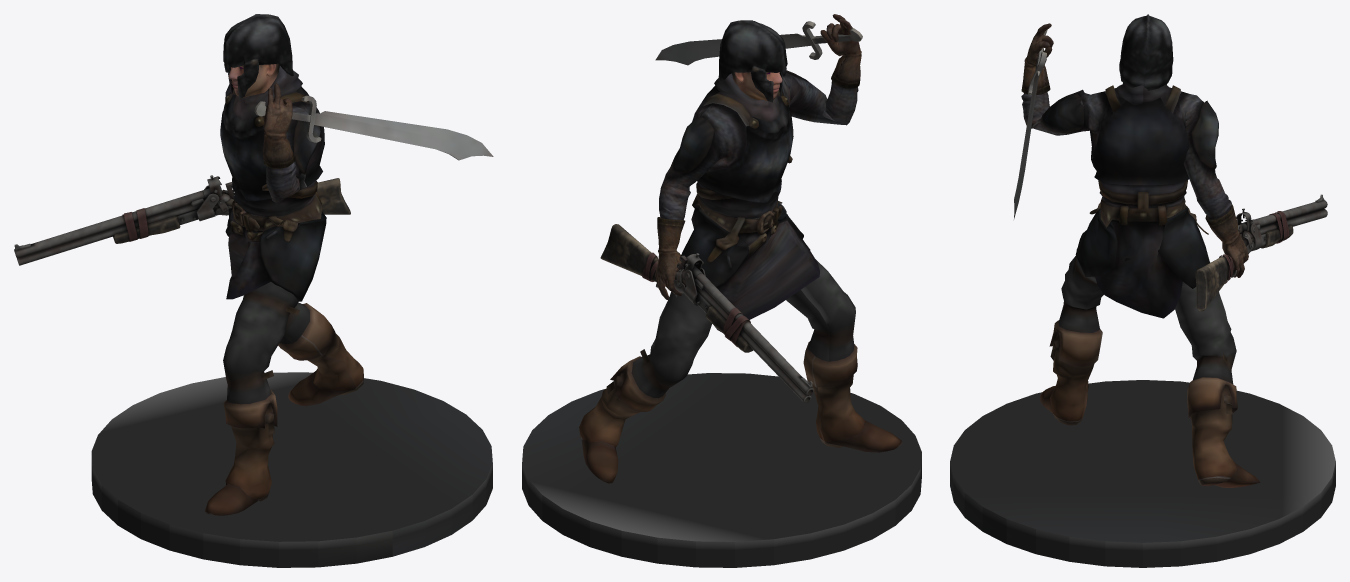
3 renders of one model, left to right at view 1: azimuth 30°, elevation 25°; view 2: azimuth 150°, elevation 25°; view 3: azimuth 270°, elevation 25°, orthographic. The views are drawn at different scales.
Visible parts, largest first — view 1: Collection.smd; view 2: Collection.smd; view 3: Collection.smd.
Boxes of the visible parts, x1=… form: Collection.smd: x1=14, y1=14, x2=493, y2=567; Collection.smd: x1=522, y1=14, x2=921, y2=567; Collection.smd: x1=950, y1=14, x2=1335, y2=567.
Size of the model in its own units: 1.29 by 1.64 by 1.26.
Materials: 1 (1 with a texture image).
